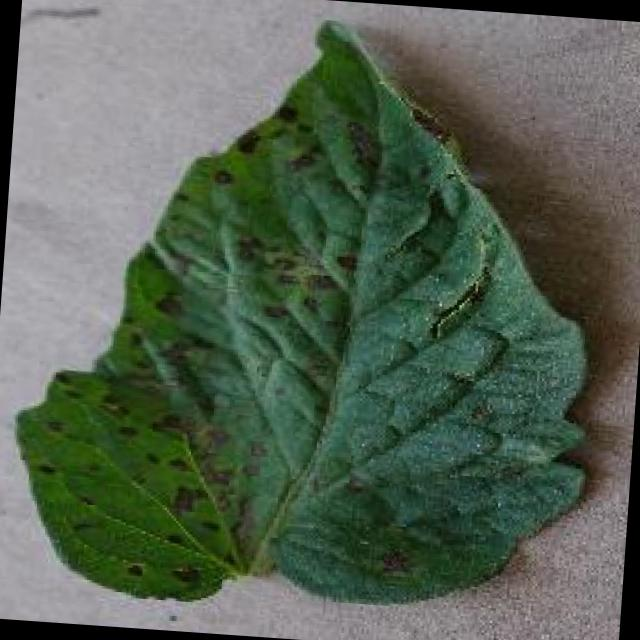Tomato_Early_Blight: (135, 208, 378, 552)
